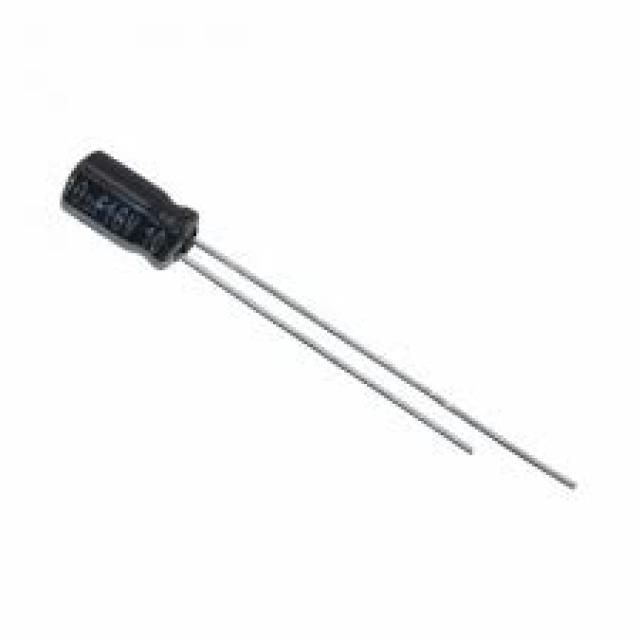Capacitor: (60, 151, 580, 489)
